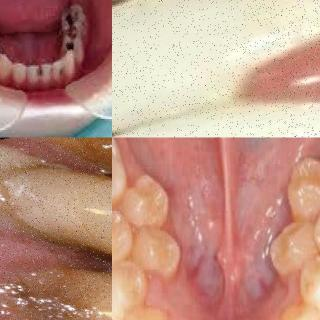Gum Swelling: (218, 0, 320, 115), (0, 137, 26, 292)
calculus: (0, 137, 60, 238), (0, 270, 87, 320), (72, 228, 112, 300)
cavities: (54, 137, 112, 173), (58, 9, 86, 35), (63, 35, 81, 53), (31, 64, 47, 83), (55, 66, 67, 80)
maligned: (117, 212, 177, 274), (264, 211, 319, 273), (117, 172, 171, 228), (281, 149, 320, 220)
